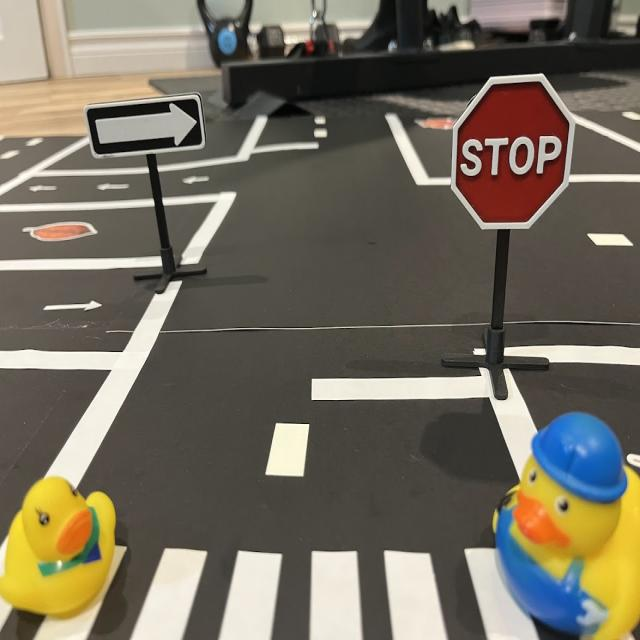duck_regular: (1, 473, 120, 624)
duck_specialty: (488, 407, 640, 640)
road_crosswalk: (26, 537, 552, 640)
road_oneway: (34, 294, 109, 319), (178, 173, 220, 189), (91, 180, 139, 194), (26, 181, 58, 197)
sign_oneway_right: (86, 90, 210, 158)
sign_stop: (450, 77, 574, 235)
